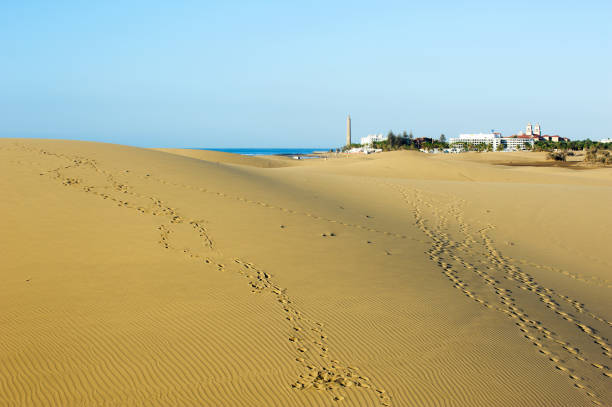human_foot_print: (41, 151, 390, 405), (396, 187, 610, 404)
